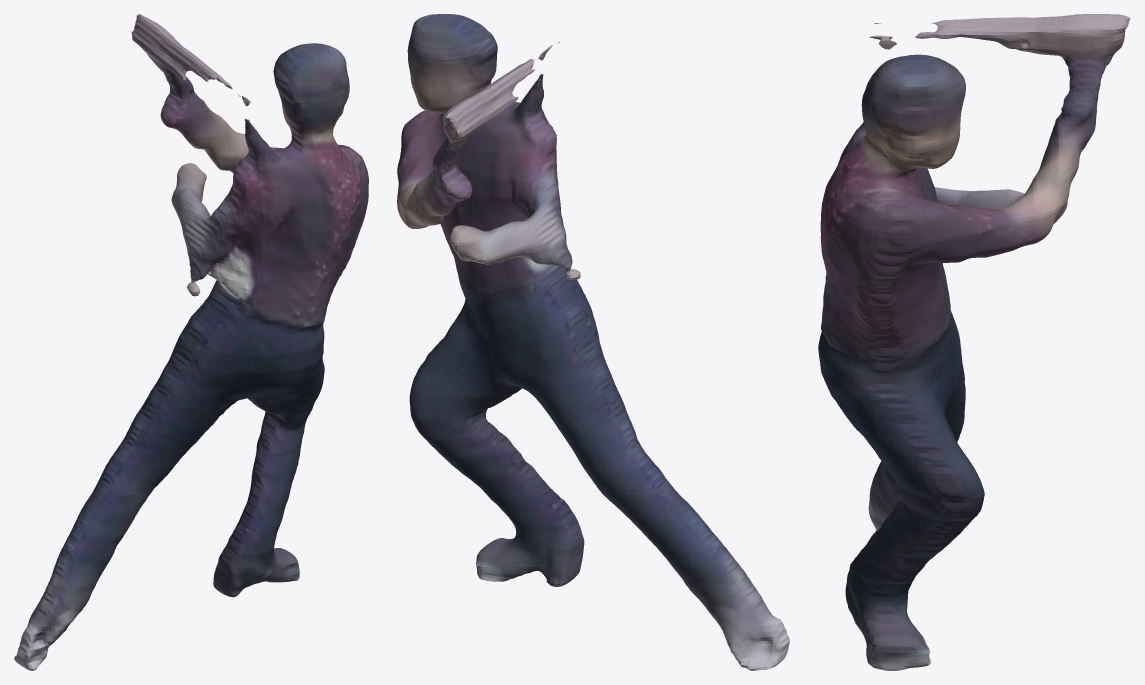
Rendered from 0077_tex.glb.
3 renders of one model, left to right at view 1: azimuth 30°, elevation 25°; view 2: azimuth 150°, elevation 25°; view 3: azimuth 270°, elevation 25°, orthographic. The views are drawn at different scales.
Visible parts, largest first — view 1: 0077_tex.obj; view 2: 0077_tex.obj; view 3: 0077_tex.obj.
Part boxes in pixels (box(x1,y1,x2,y2)): 0077_tex.obj: box(14, 14, 368, 670); 0077_tex.obj: box(397, 14, 789, 670); 0077_tex.obj: box(818, 14, 1130, 670).
Size of the model in its own units: 0.6101 by 0.8976 by 0.3876.
